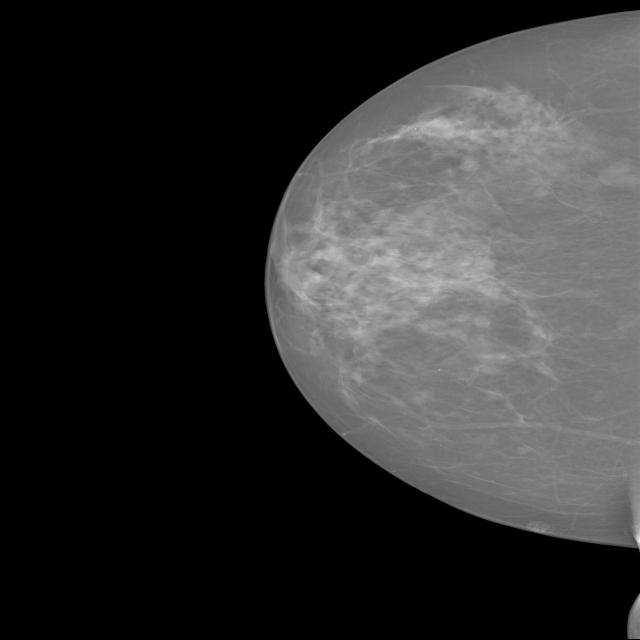Mass_1: (581, 144, 640, 206)
Mass_2: (444, 143, 496, 183)
